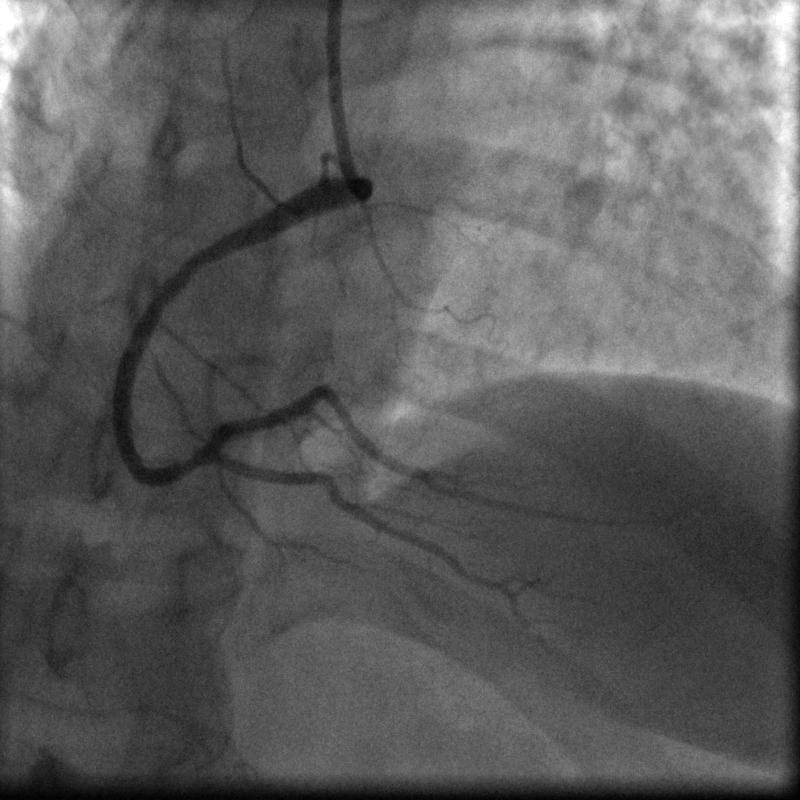Stenosis: (169, 451, 210, 476)
